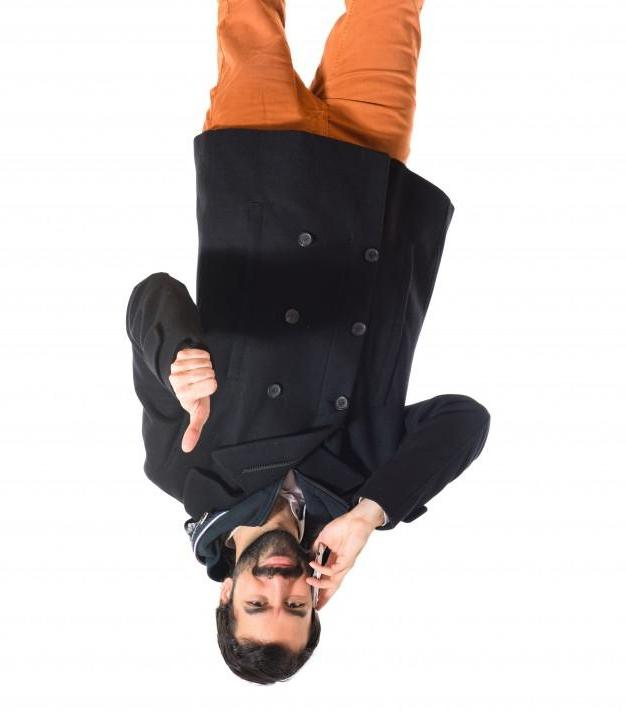thumbsdown: (169, 348, 218, 453)
